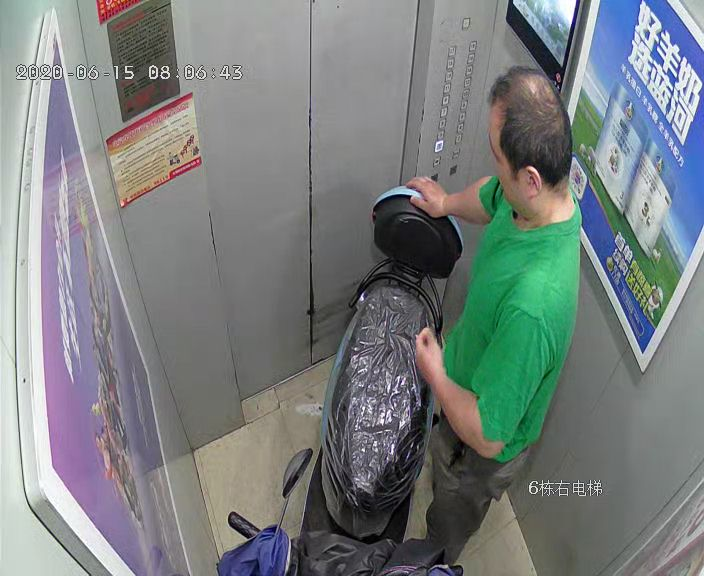Electric-bicycle: (228, 182, 463, 575)
